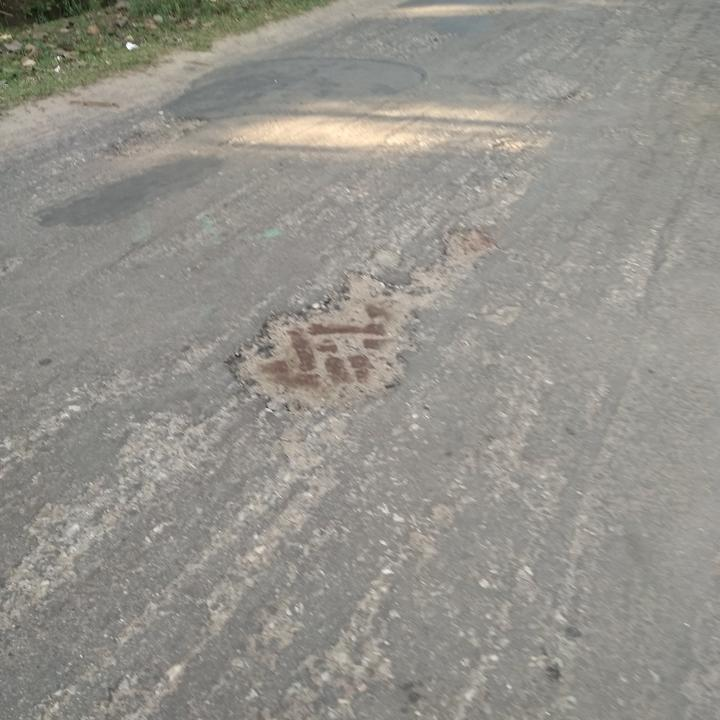pothole: (215, 269, 427, 422), (103, 112, 211, 159), (441, 224, 496, 274)
